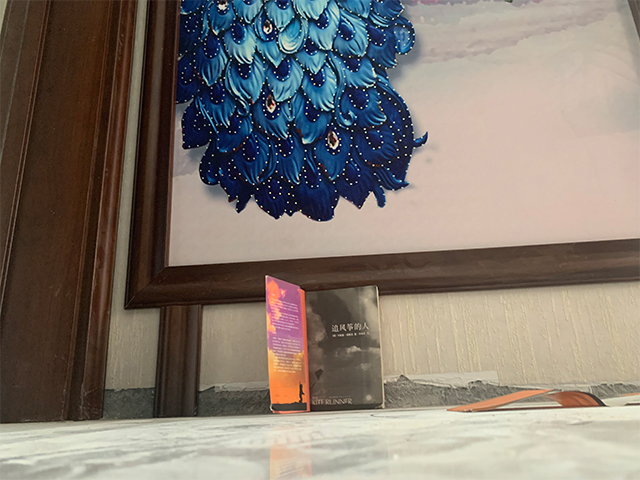book: (261, 275, 385, 414)
